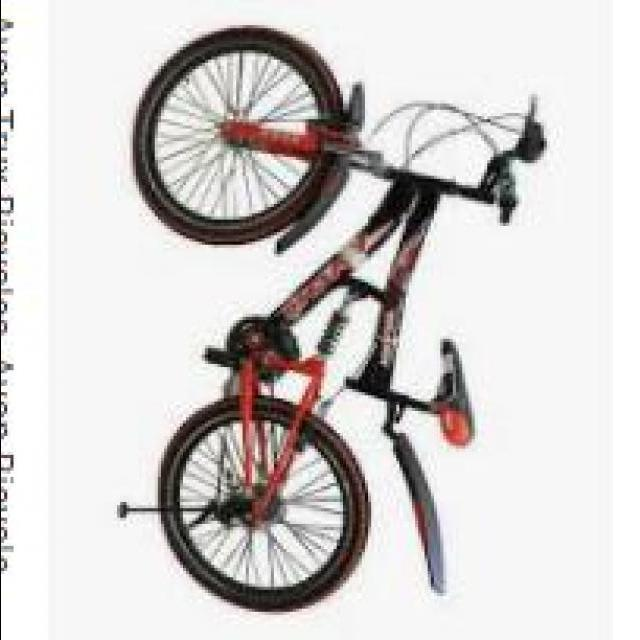bicycle: (120, 32, 500, 616)
